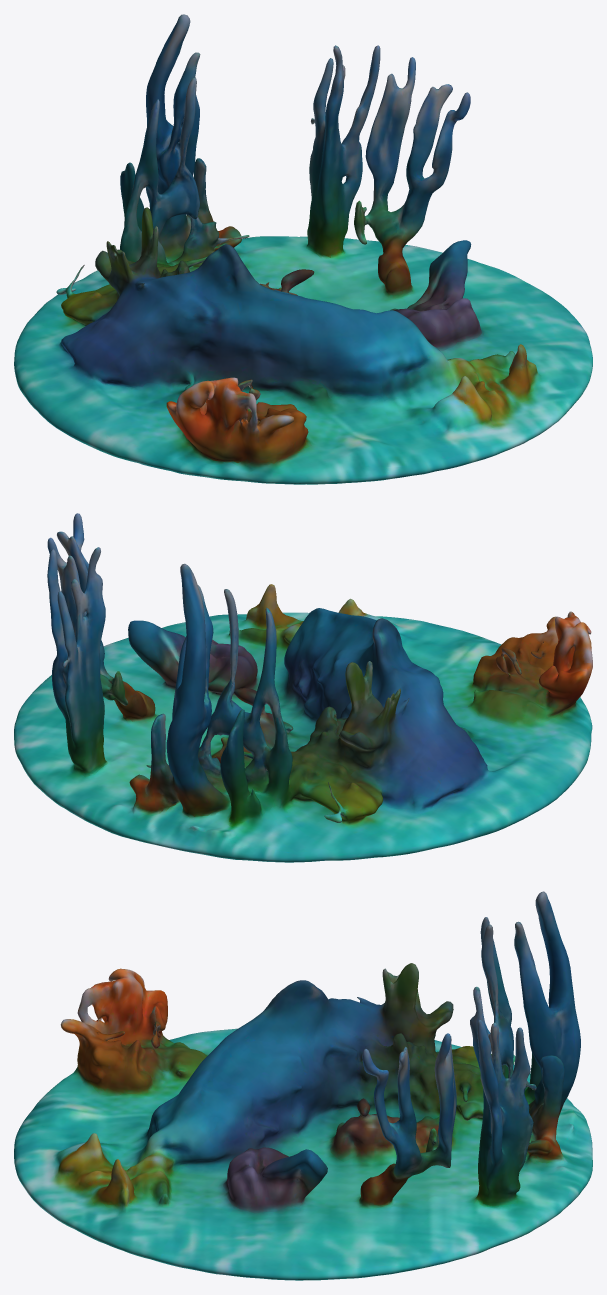
Rendered from acuatic-system.glb.
3 views of the same model, one above another, from view 1: azimuth 30°, elevation 25°; view 2: azimuth 150°, elevation 25°; view 3: azimuth 270°, elevation 25° (orthographic).
Visible parts, largest first — view 1: high_poly; view 2: high_poly; view 3: high_poly.
Boxes of the visible parts, x1=… form: high_poly: x1=14, y1=14, x2=592, y2=484; high_poly: x1=14, y1=513, x2=592, y2=862; high_poly: x1=14, y1=891, x2=592, y2=1280.
Bounding box in the file's own units: 1 × 0.5091 × 0.9928.
Materials: 1 (1 with a texture image).
